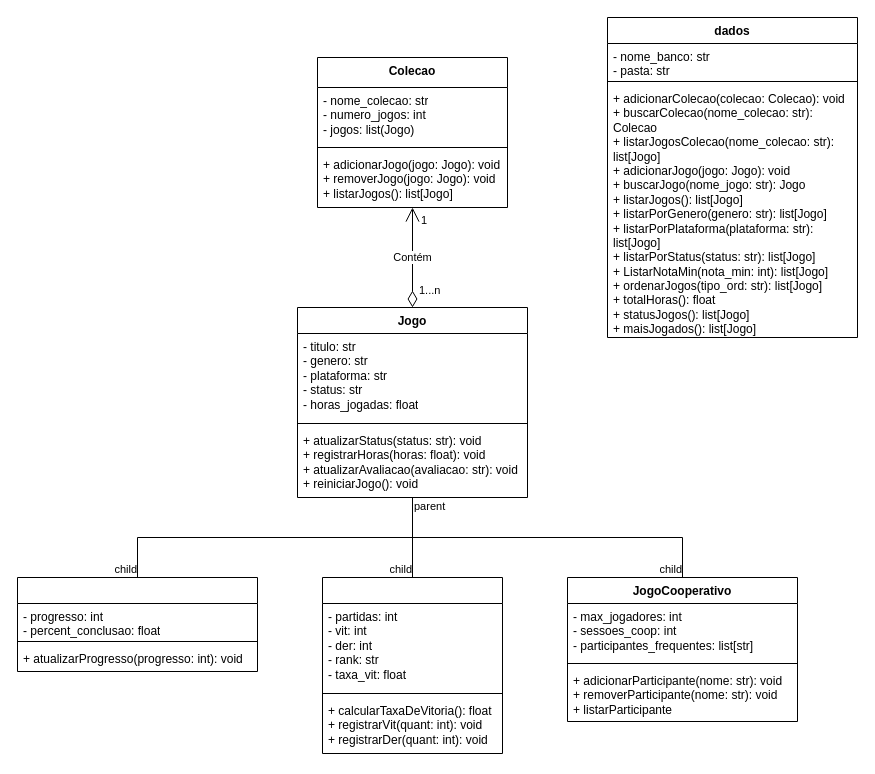
Image size: 875x774. Some labels were removed from this diagram. Each missing label, with the box of its shape:
JogoCampanha: (16, 576, 258, 672)
JogoCompetitivo: (322, 576, 502, 754)
